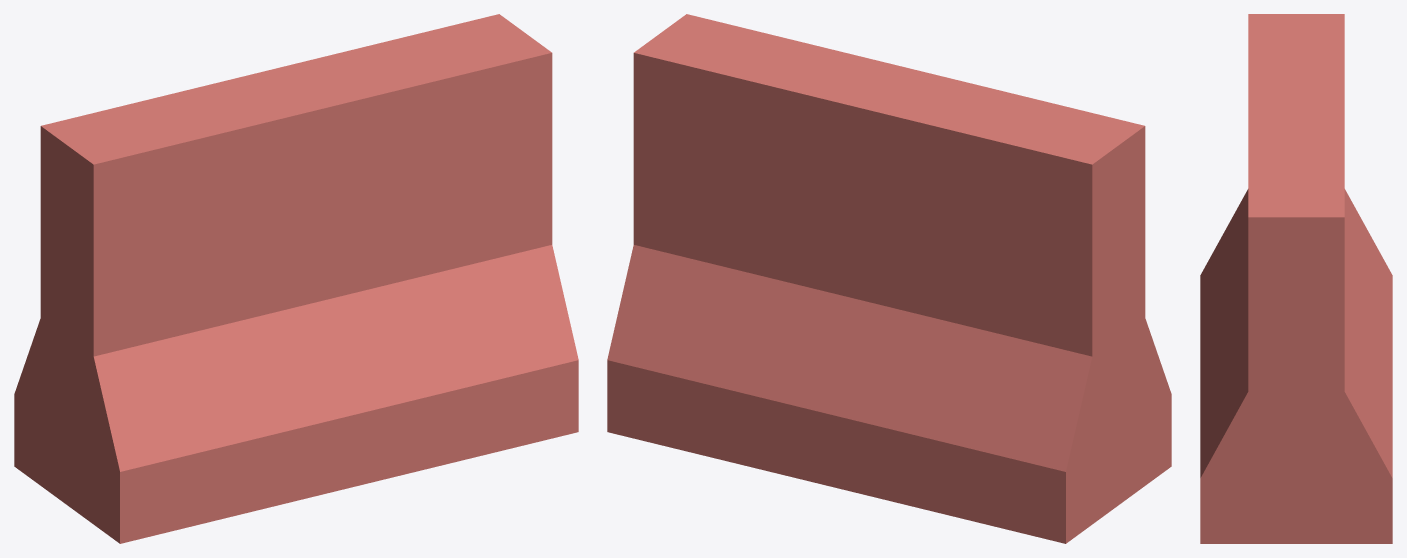
File: concrete_barricade.fbx
The picture shows the model from 3 angles, left to right: view 1: azimuth 30°, elevation 25°; view 2: azimuth 150°, elevation 25°; view 3: azimuth 270°, elevation 25°; orthographic projection. The views are drawn at different scales.
Visible parts, largest first — view 1: Cube.002; view 2: Cube.002; view 3: Cube.002.
Part boxes in pixels (x1,y1,x2,y2): Cube.002: [14, 14, 578, 543]; Cube.002: [607, 14, 1171, 543]; Cube.002: [1200, 14, 1392, 543].
Size of the model in its own units: 200 by 150 by 80.
